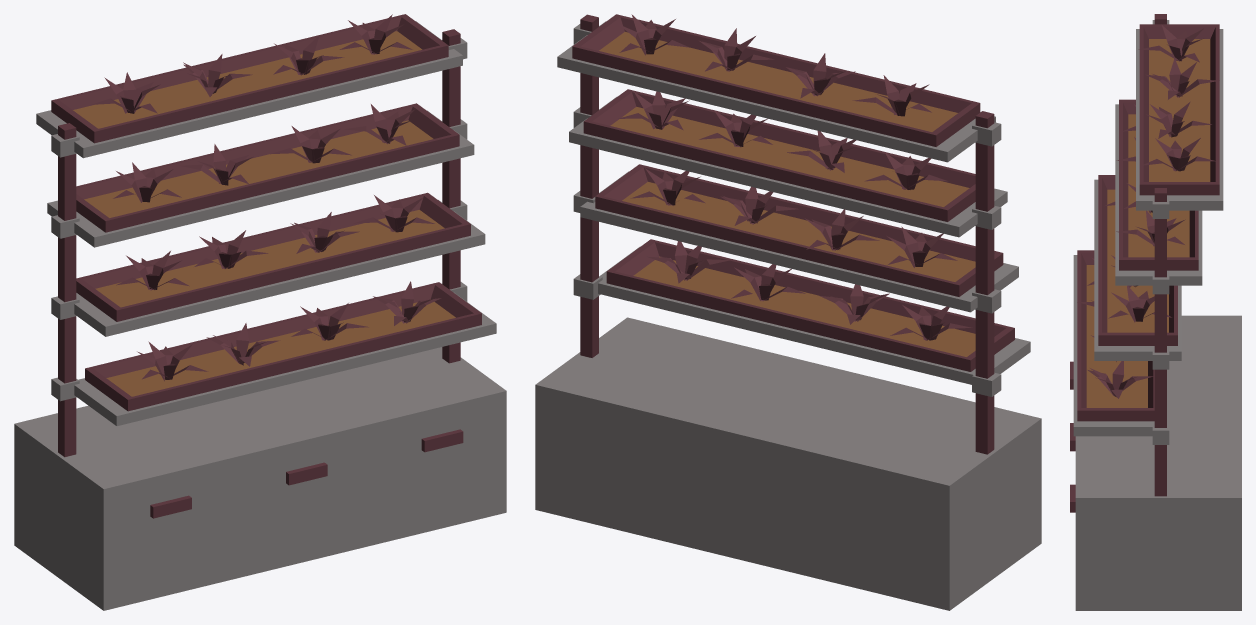
The model's file is scifi-hydroponic-shelves.fbx.
3 views of the same model, side by side, from view 1: azimuth 30°, elevation 25°; view 2: azimuth 150°, elevation 25°; view 3: azimuth 270°, elevation 25° (orthographic). The views are drawn at different scales.
Parts seen in each view (by area): view 1: scifi-hydroponic-shelves; view 2: scifi-hydroponic-shelves; view 3: scifi-hydroponic-shelves.
Part boxes in pixels (box(x1,y1,x2,y2)): scifi-hydroponic-shelves: box(14, 14, 506, 610); scifi-hydroponic-shelves: box(535, 14, 1041, 610); scifi-hydroponic-shelves: box(1070, 14, 1241, 610).
Size of the model in its own units: 2.1 by 2.3 by 0.8274.
